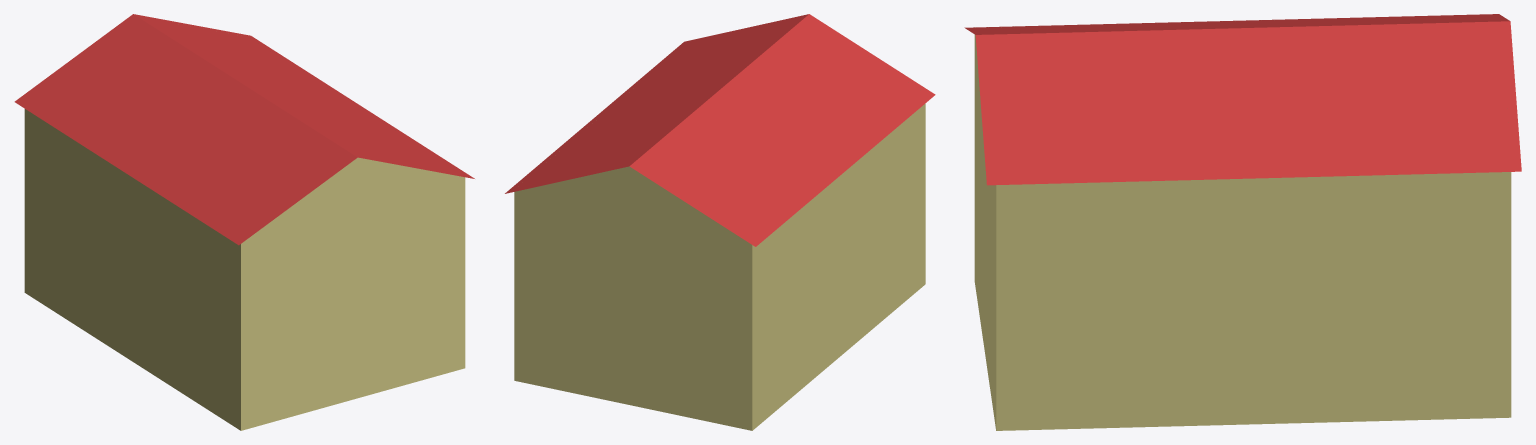
3 renders of one model, left to right at view 1: azimuth 30°, elevation 25°; view 2: azimuth 150°, elevation 25°; view 3: azimuth 270°, elevation 25°, orthographic. The views are drawn at different scales.
Bounding box in the file's own units: 10.23 × 14.07 × 8.96.
